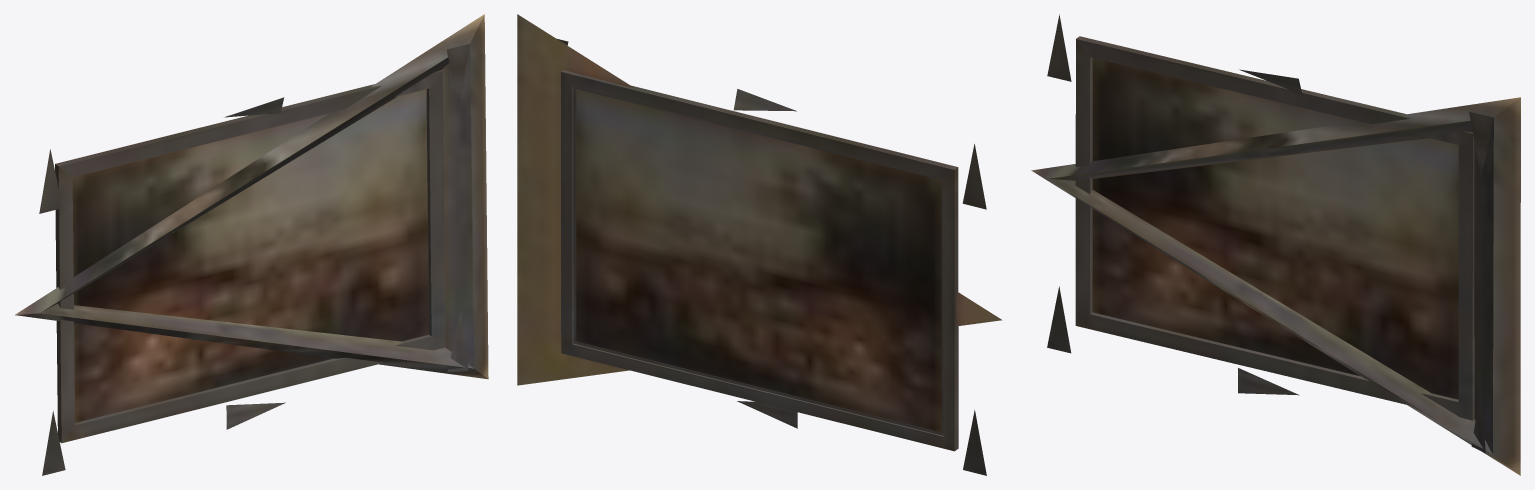
Rendered from painting-hall-2.lod1.glb.
3 renders of one model, left to right at view 1: azimuth 30°, elevation 25°; view 2: azimuth 150°, elevation 25°; view 3: azimuth 330°, elevation 25°, orthographic. The views are drawn at different scales.
Parts seen in each view (by area): view 1: painting-hall-2; view 2: painting-hall-2; view 3: painting-hall-2.
Boxes of the visible parts, box(x1,y1,x2,y2) form: painting-hall-2: box(15, 14, 488, 475); painting-hall-2: box(517, 14, 1002, 475); painting-hall-2: box(1031, 14, 1520, 475).
Bounding box in the file's own units: 0.7804 × 0.5736 × 0.0302.
1 material, 1 textured.
